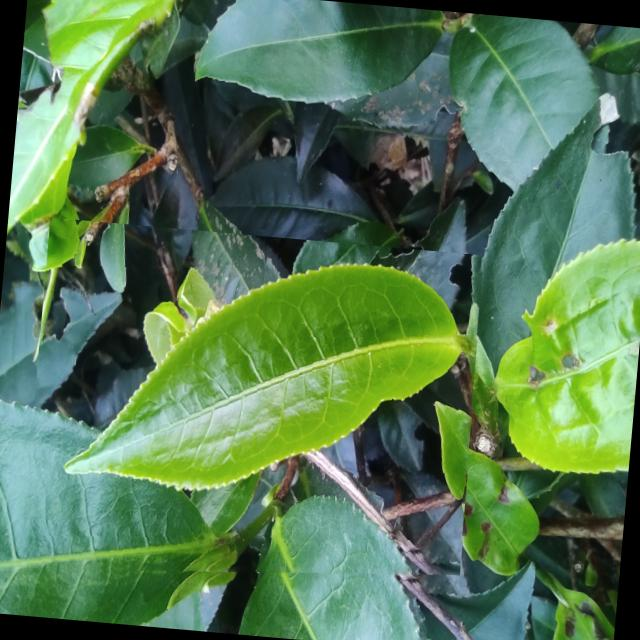Category C(4-7 days): (20, 216, 488, 606)
